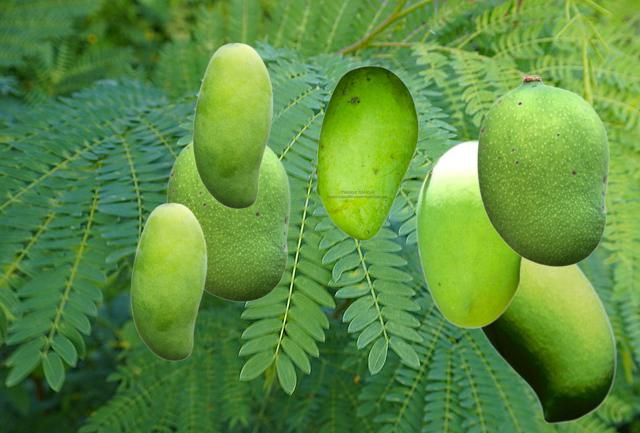green_mango: (476, 74, 608, 266), (478, 259, 615, 423), (415, 139, 523, 327), (166, 141, 289, 301), (314, 65, 418, 240), (192, 42, 272, 208), (130, 202, 206, 360)
